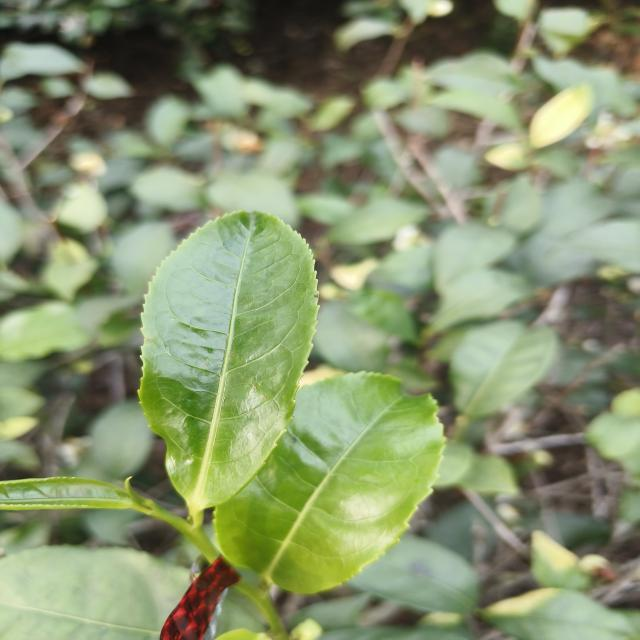Leaf: (139, 211, 317, 523), (216, 372, 444, 593), (0, 545, 190, 640), (450, 320, 558, 419), (349, 534, 479, 615), (482, 588, 638, 640), (434, 222, 515, 292), (0, 301, 91, 361), (206, 170, 299, 226), (90, 400, 153, 478), (328, 198, 430, 245), (110, 222, 176, 293), (0, 477, 133, 510), (427, 52, 515, 97), (569, 219, 640, 273), (349, 287, 417, 342), (531, 530, 590, 591), (431, 90, 522, 129), (132, 168, 201, 211), (459, 454, 519, 495), (216, 590, 265, 640), (43, 258, 98, 300), (147, 98, 189, 146)
